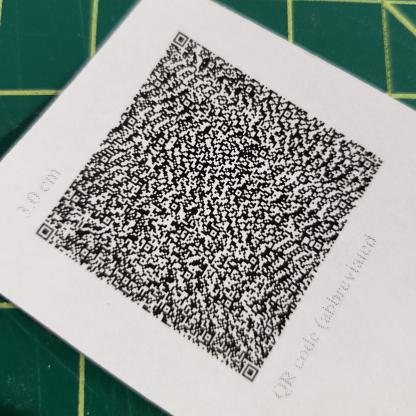qr: (32, 24, 390, 386)
